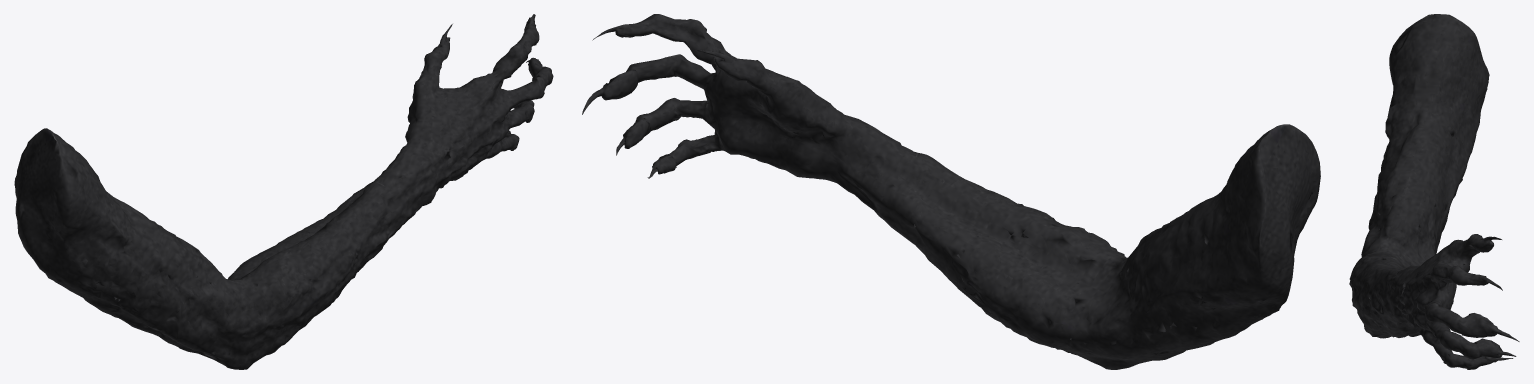
The model's file is hand.glb.
3 views of the same model, side by side, from view 1: azimuth 30°, elevation 25°; view 2: azimuth 150°, elevation 25°; view 3: azimuth 270°, elevation 25° (orthographic). The views are drawn at different scales.
Size of the model in its own units: 0.9492 by 0.4287 by 0.2685.
1 material, 1 textured.
